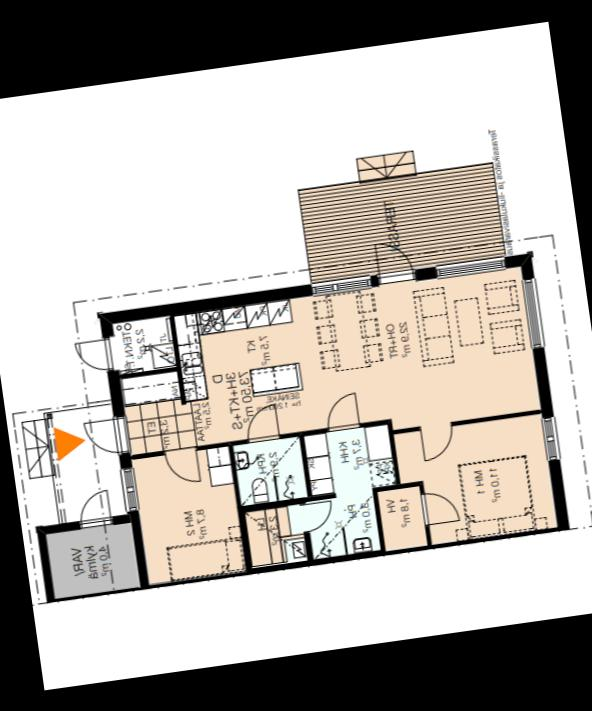door: (366, 232, 419, 288), (78, 410, 132, 462), (318, 388, 364, 437), (158, 441, 204, 489), (69, 334, 118, 379), (238, 402, 285, 448), (414, 485, 462, 530), (415, 418, 458, 464), (73, 486, 114, 533), (296, 494, 338, 536)
window: (426, 248, 510, 284), (514, 272, 550, 355), (308, 268, 377, 301), (114, 461, 143, 517), (538, 410, 564, 467)
